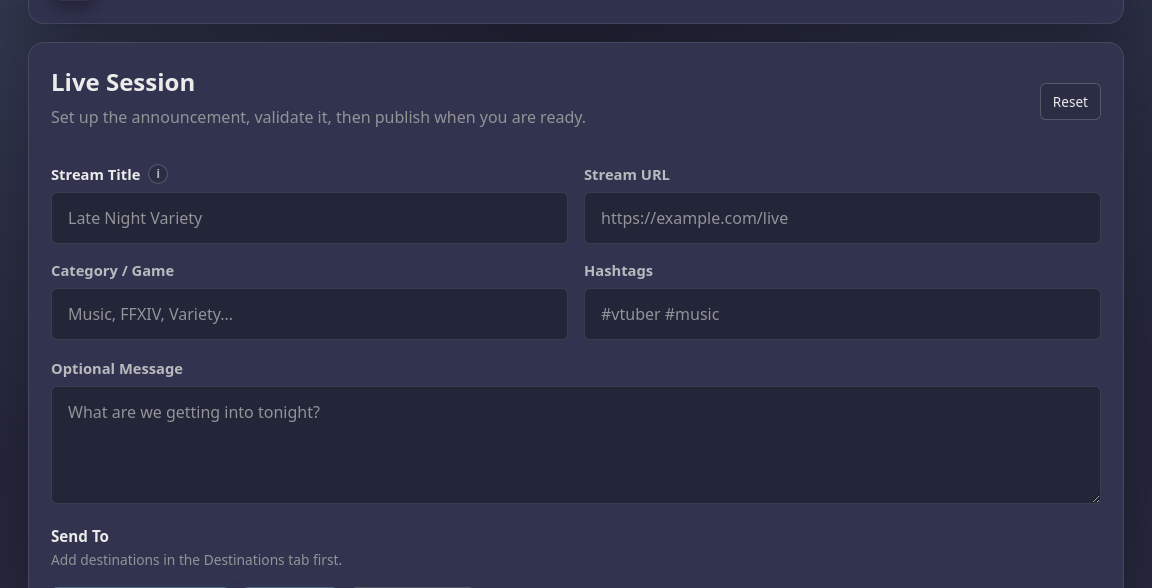
Test: App › resets the form and clears the preview panel state
Type "Going Live" into the field labelled "Stream Title" at (310,218), box [51,192,568,244]
(page scrolled)
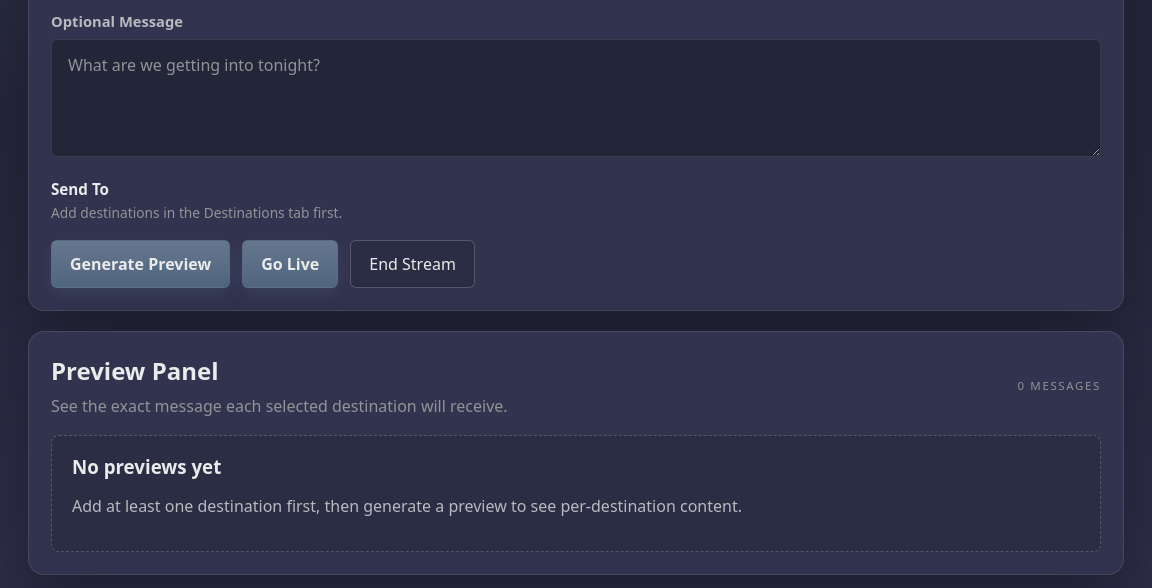
Click the button "Generate Preview" at (141,264), box [51,240,230,288]
(page scrolled)
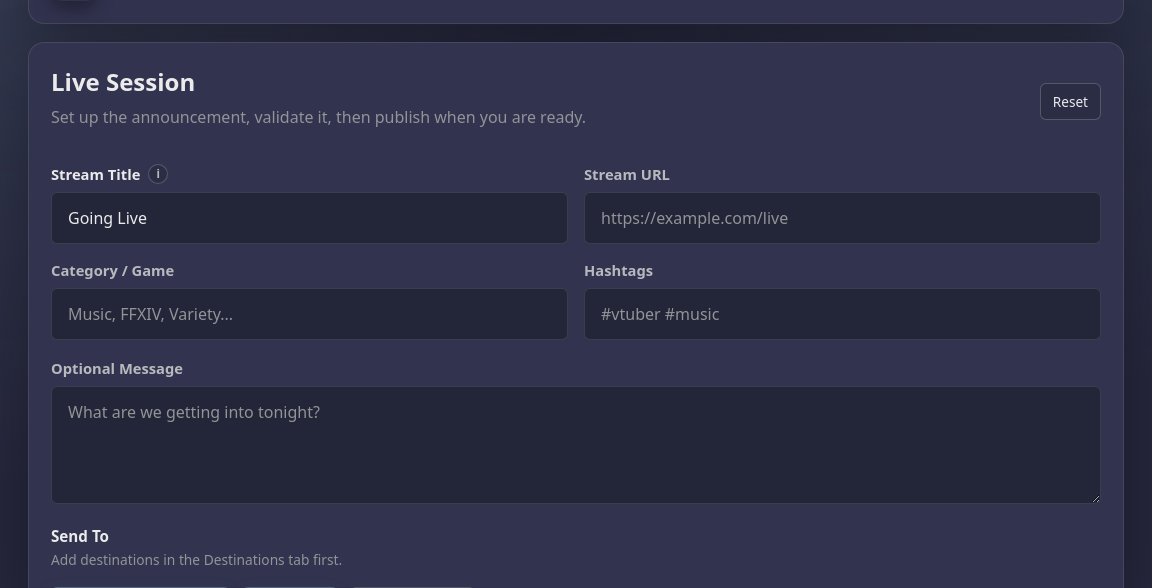
Click the button "Reset" at (1070,102), box [1040,83,1101,120]
(page scrolled)
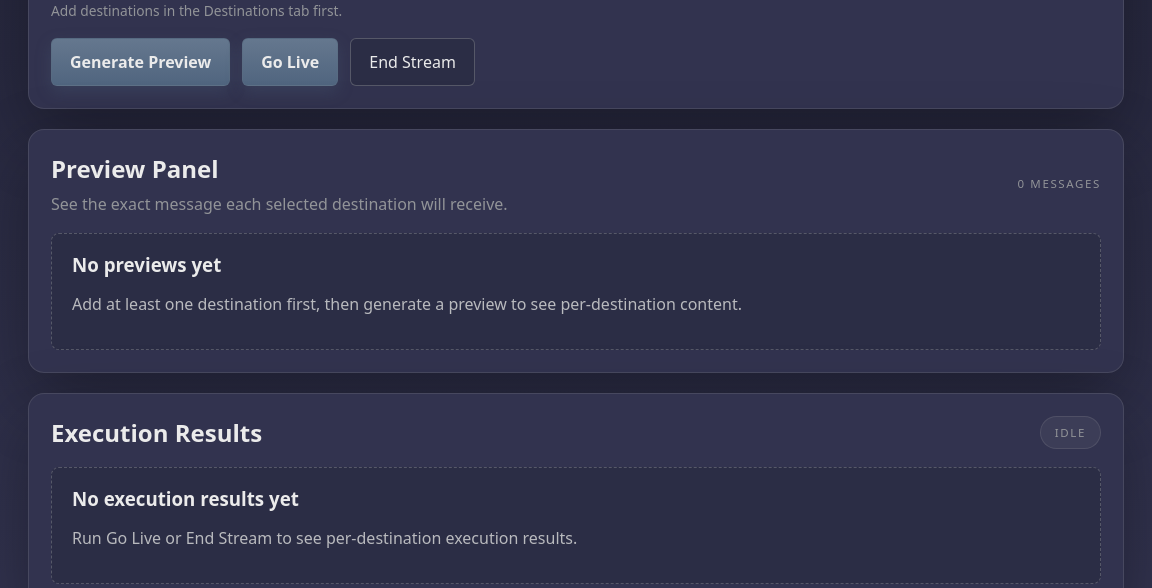
Expected: the heading "No previews yet" is shown, [72,252,221,277]
